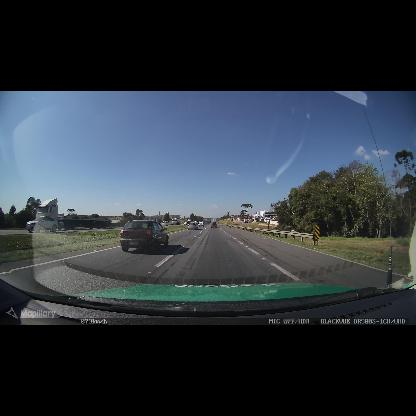O-MP: (315, 224, 320, 239)
